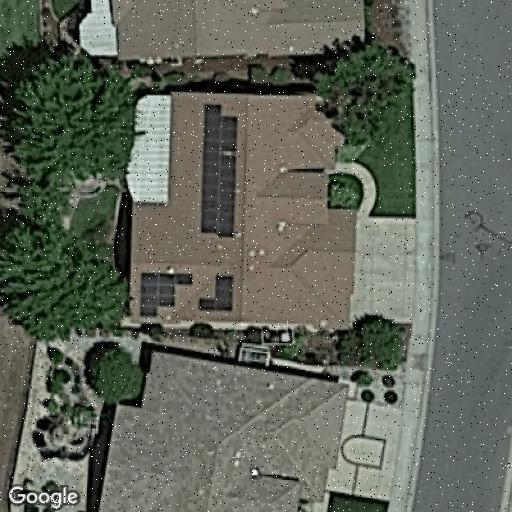solar-panel: (196, 102, 240, 240), (138, 270, 193, 320), (198, 272, 238, 314)
